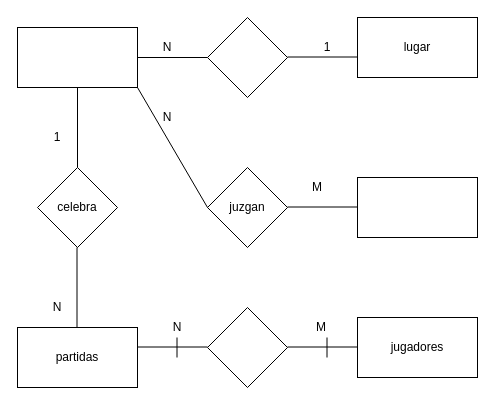
Some shapes in this 495 by 405 pixel diagram are drawn without their labels. The centre of each missing label's shape, as x and y in pixels:
juez: (417,207)
jugar: (247,347)
TORNEO: (77,57)
